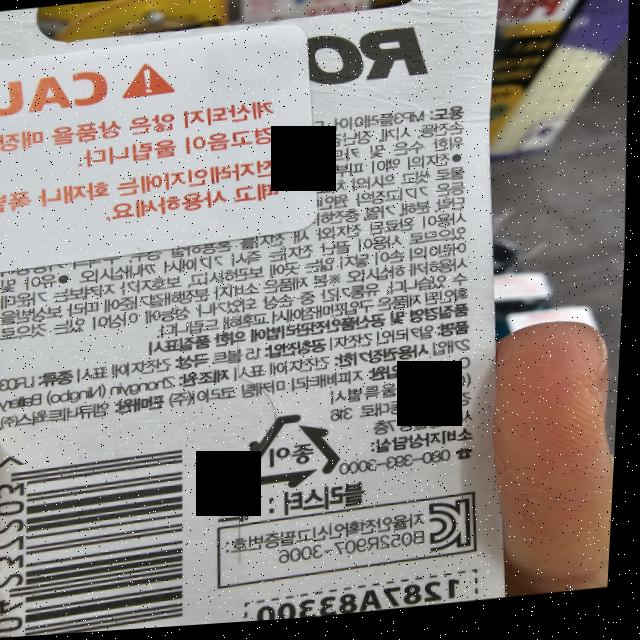Paper: (243, 412, 351, 498)
